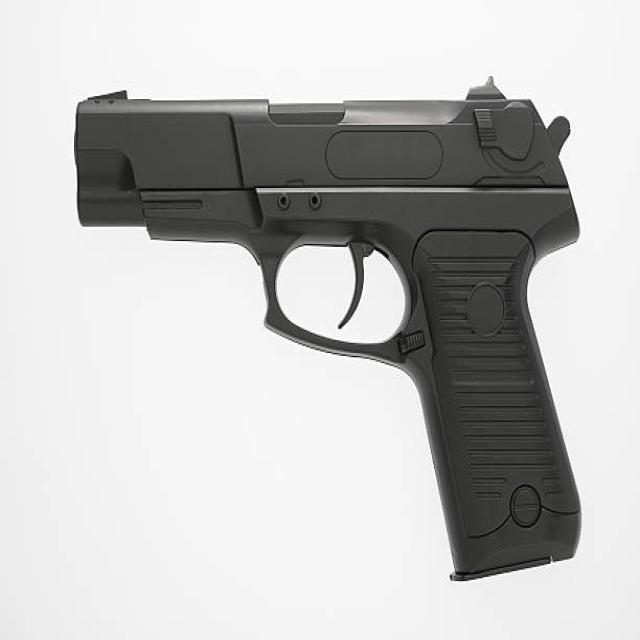pistol: (73, 70, 598, 589)
